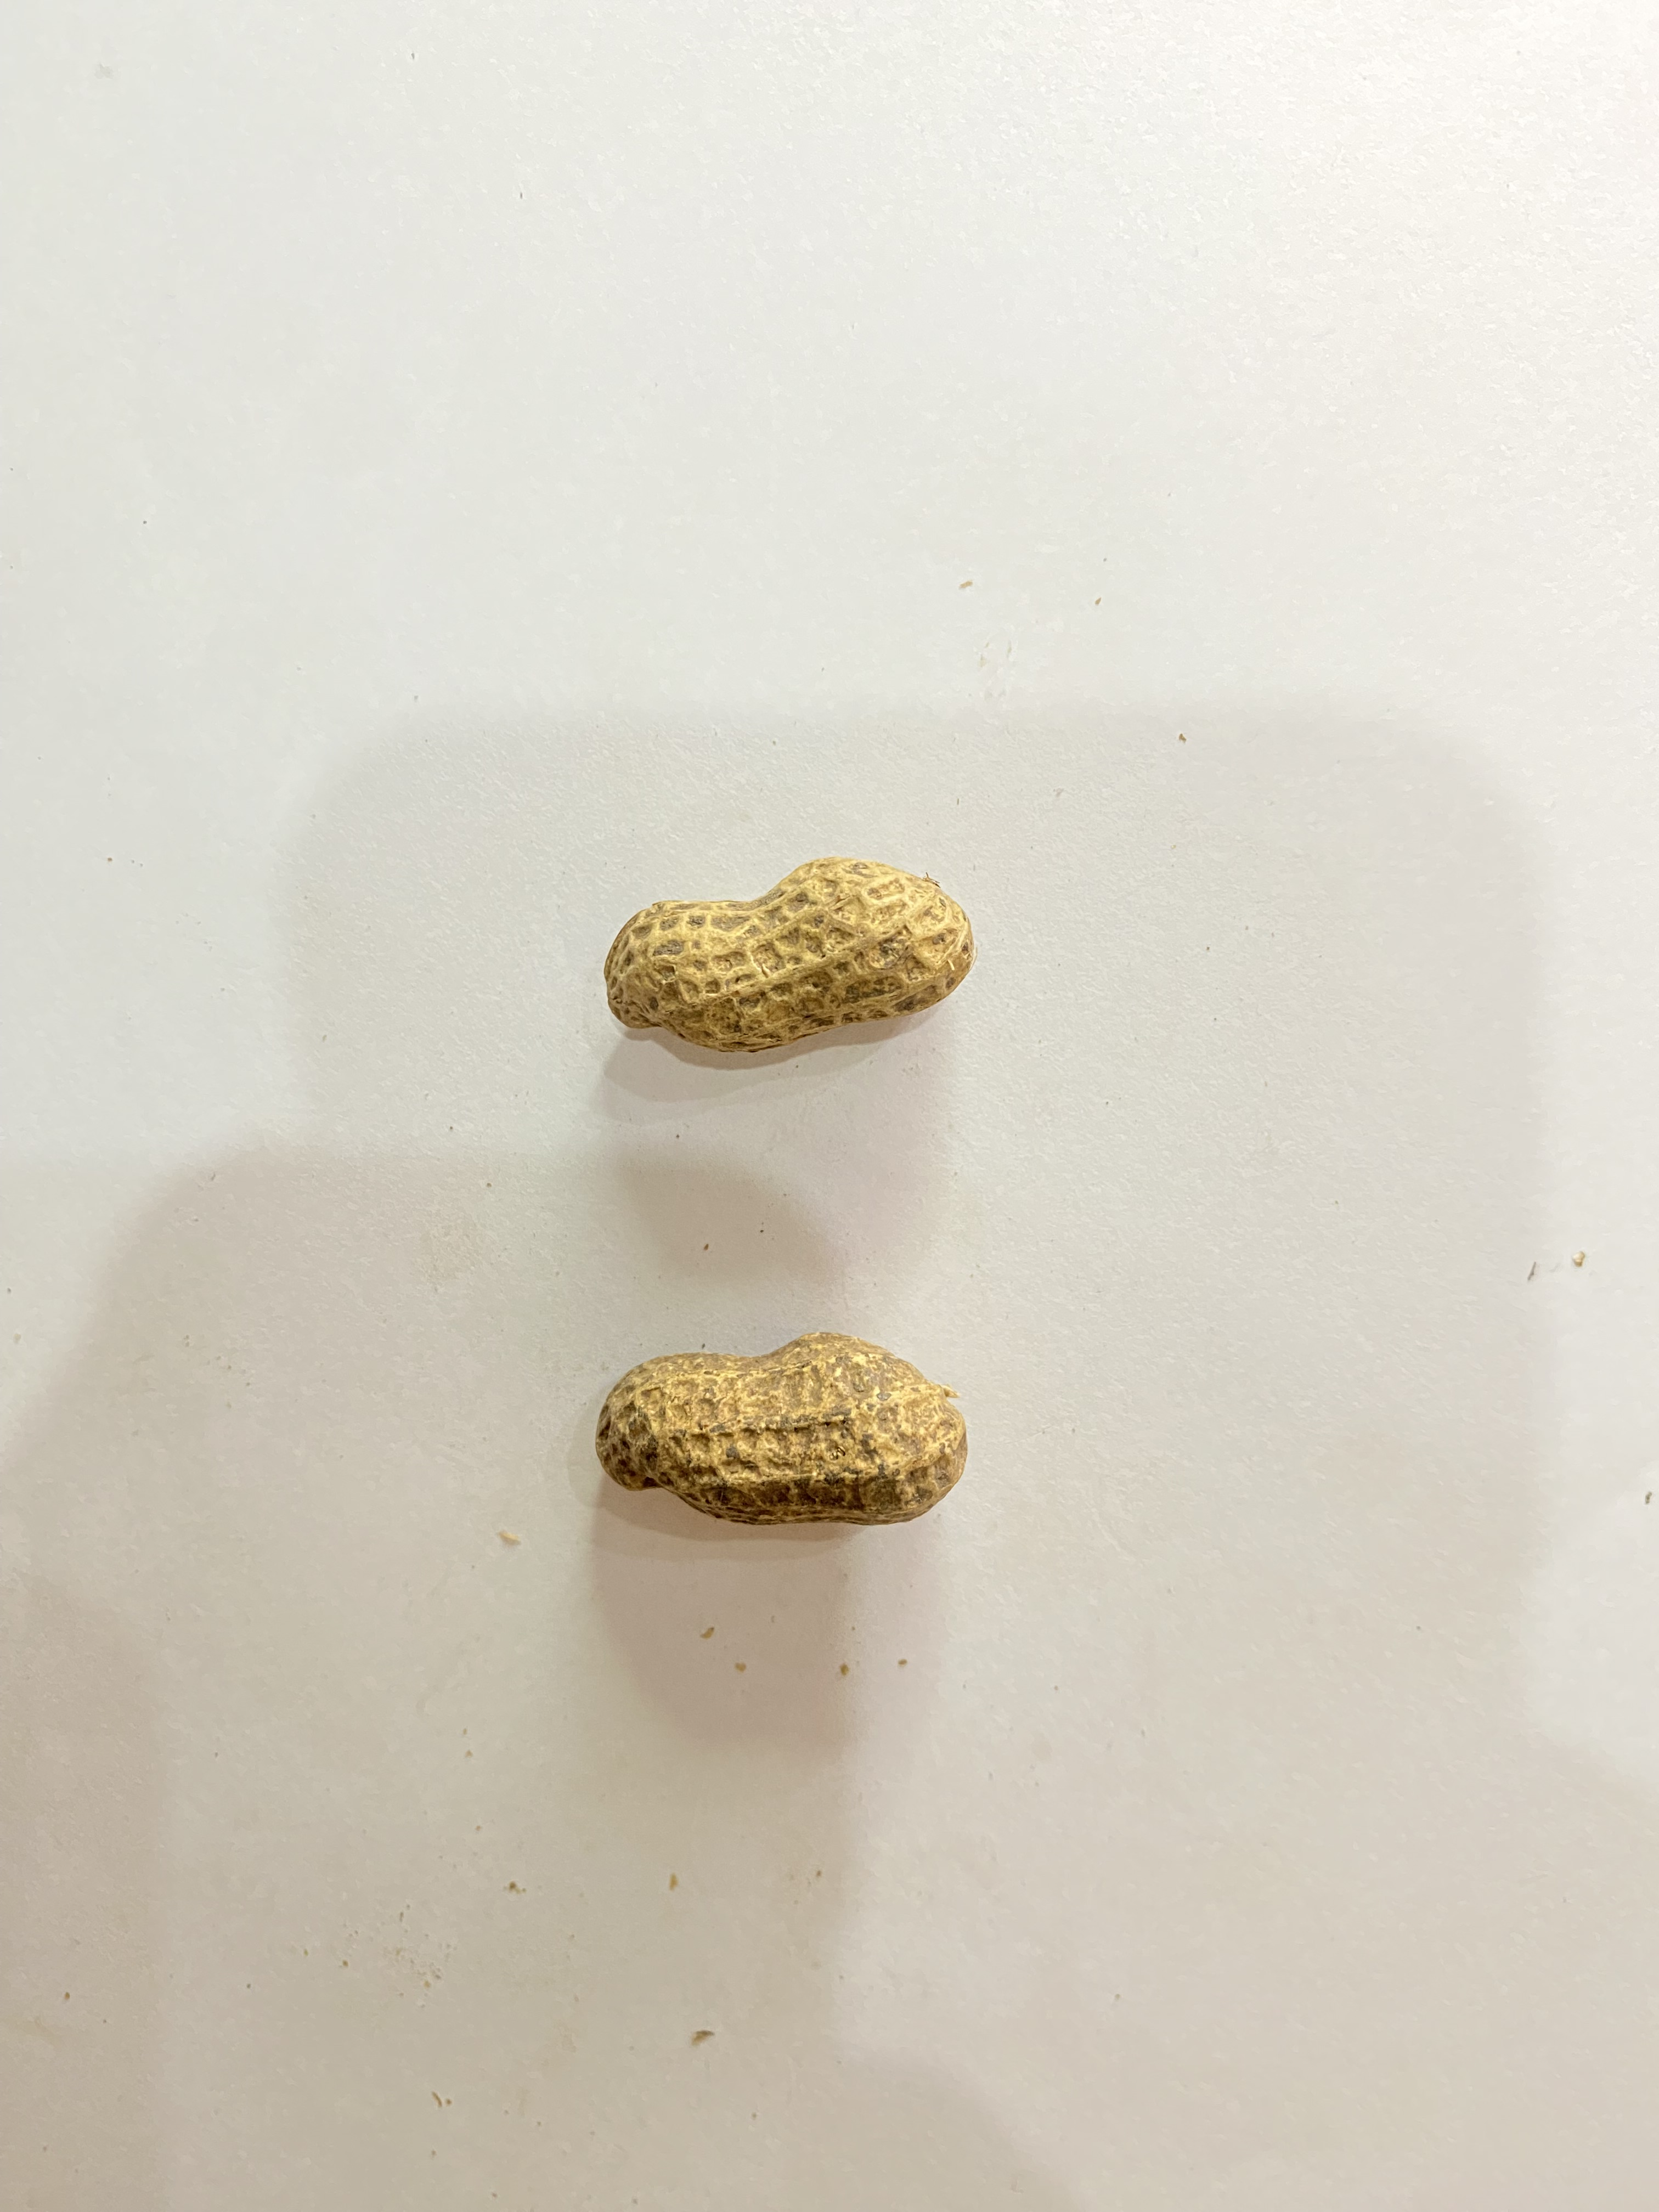kacang1: (558, 1320, 1014, 1534)
kacang2: (601, 784, 992, 1096)
